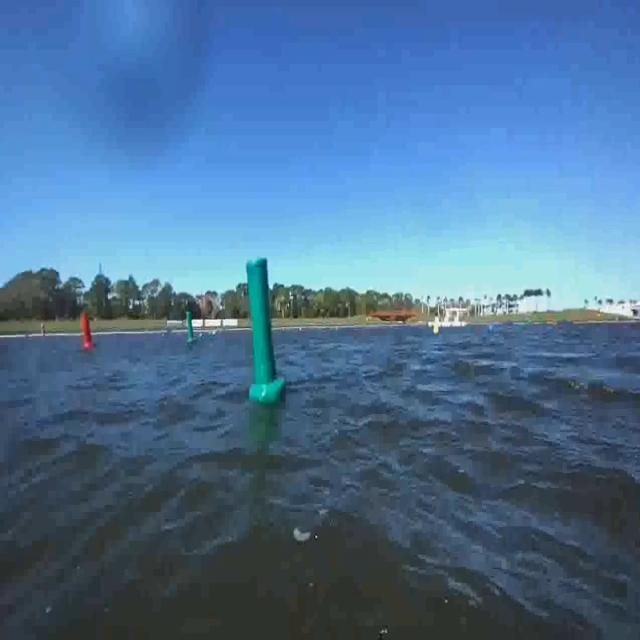green-column-buoy: (249, 254, 287, 404), (185, 310, 195, 343)
red-column-buoy: (80, 312, 97, 352)
